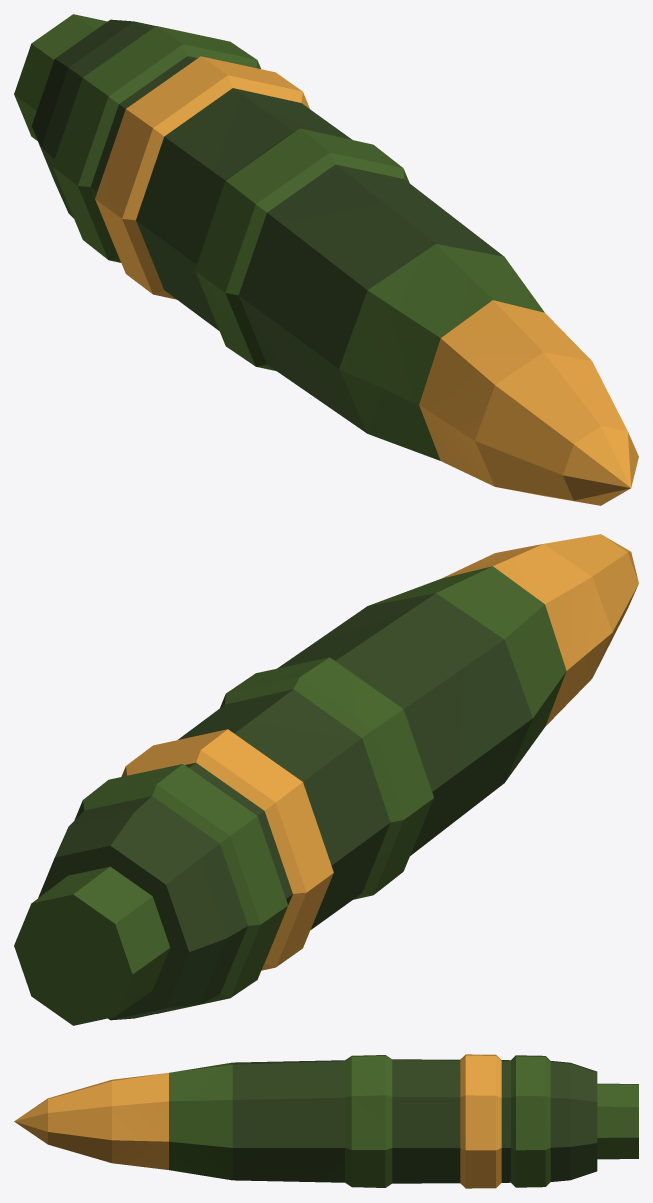
File: Artillery_Shell.fbx
3 views of the same model, one above another, from view 1: azimuth 30°, elevation 25°; view 2: azimuth 150°, elevation 25°; view 3: azimuth 270°, elevation 25° (orthographic). The views are drawn at different scales.
Visible parts, largest first — view 1: pCylinder1; view 2: pCylinder1; view 3: pCylinder1.
Boxes of the visible parts, box(x1,y1,x2,y2) form: pCylinder1: box(14, 14, 638, 505); pCylinder1: box(14, 534, 638, 1025); pCylinder1: box(14, 1054, 638, 1188).
Size of the model in its own units: 1.2 by 1.27 by 5.46.
